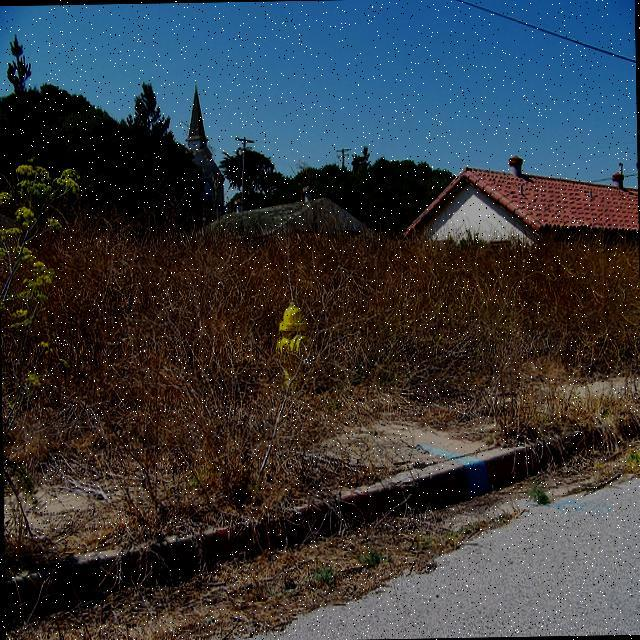fire_hydrant: (276, 301, 310, 391)
